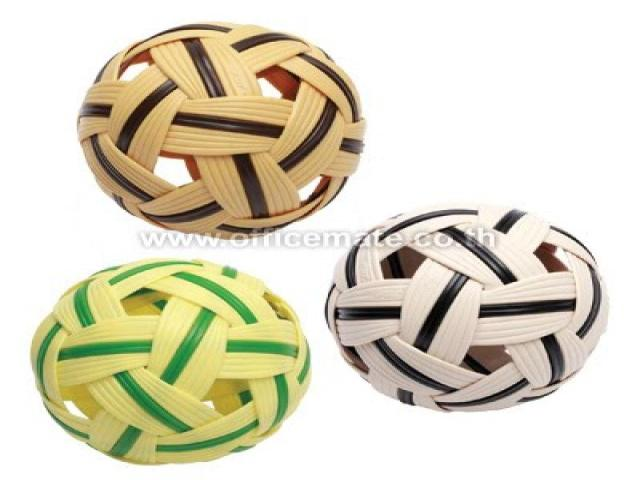round ball: (78, 23, 365, 238), (326, 207, 608, 410), (31, 259, 310, 463)
